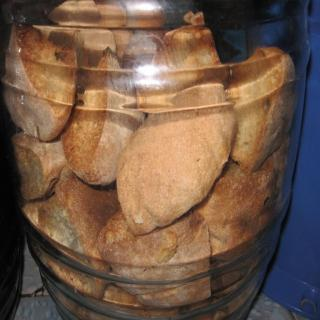Bread: (0, 0, 299, 320)
